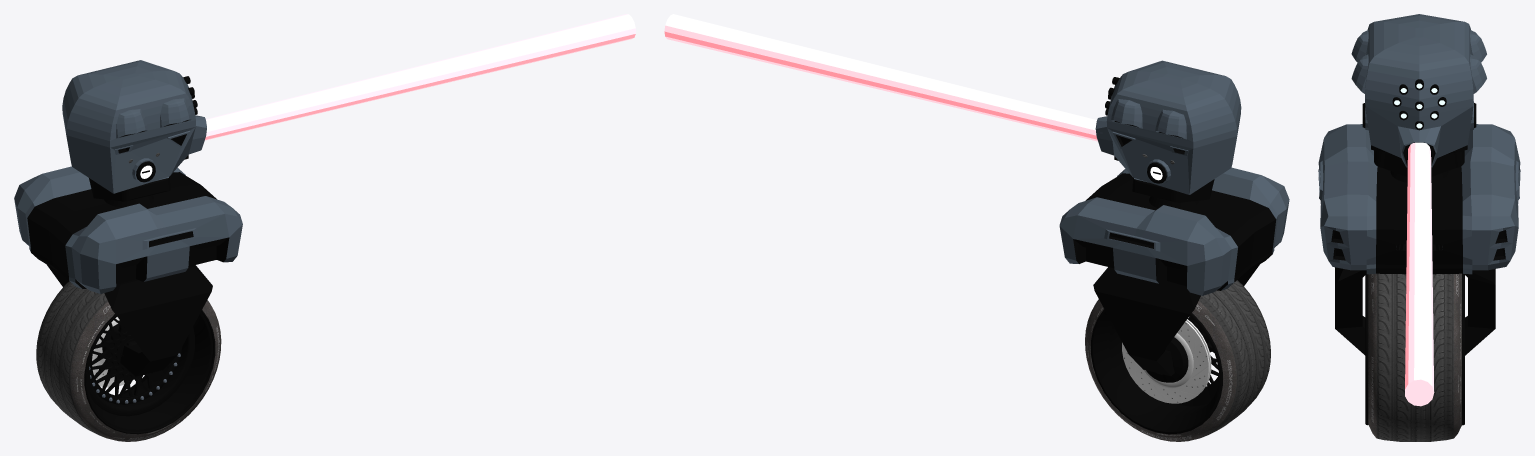
Rendered from wheel_bot.glb.
3 renders of one model, left to right at view 1: azimuth 30°, elevation 25°; view 2: azimuth 150°, elevation 25°; view 3: azimuth 270°, elevation 25°, orthographic. The views are drawn at different scales.
Parts seen in each view (by area): view 1: Body, Head.001, Laser, Rim, Tire, Cube; view 2: Body, Head.001, Laser, Rim, Tire, Cube; view 3: Body, Head.001, Tire, Laser, Cube, Rim, Neck.
Boxes of the visible parts, x1=… form: Body: x1=14, y1=166, x2=242, y2=293; Head.001: x1=62, y1=60, x2=206, y2=201; Laser: x1=205, y1=14, x2=635, y2=140; Rim: x1=84, y1=310, x2=215, y2=434; Tire: x1=36, y1=281, x2=221, y2=441; Cube: x1=47, y1=265, x2=212, y2=376; Body: x1=1059, y1=167, x2=1289, y2=295; Head.001: x1=1095, y1=60, x2=1241, y2=202; Laser: x1=664, y1=14, x2=1097, y2=141; Rim: x1=1091, y1=309, x2=1222, y2=434; Tire: x1=1085, y1=280, x2=1270, y2=441; Cube: x1=1093, y1=264, x2=1259, y2=376; Body: x1=1318, y1=124, x2=1520, y2=274; Head.001: x1=1351, y1=14, x2=1486, y2=176; Tire: x1=1368, y1=273, x2=1461, y2=441; Laser: x1=1405, y1=142, x2=1434, y2=406; Cube: x1=1335, y1=267, x2=1495, y2=355; Rim: x1=1365, y1=273, x2=1464, y2=425; Neck: x1=1390, y1=171, x2=1448, y2=182.
Bounding box in the file's own units: 12 × 6.92 × 3.16.
Materials: 13 (2 with a texture image).
